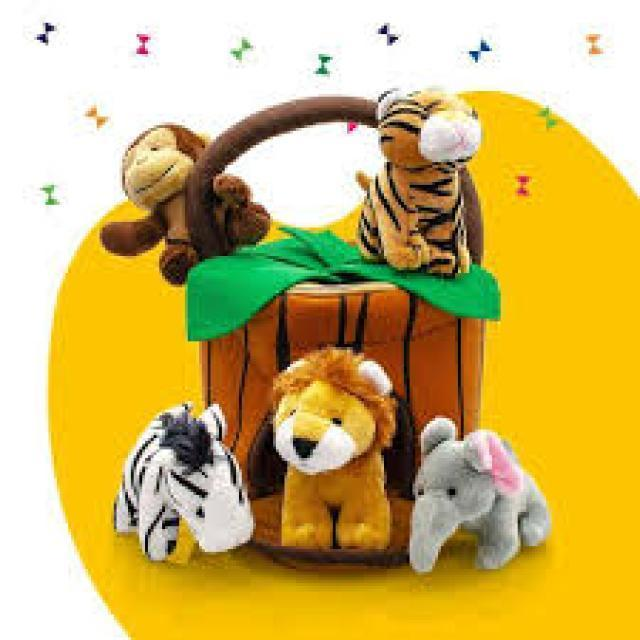soft-toy: (275, 349, 396, 550), (360, 91, 482, 275), (116, 405, 254, 562), (410, 420, 551, 573), (102, 125, 207, 285), (216, 176, 271, 249)
